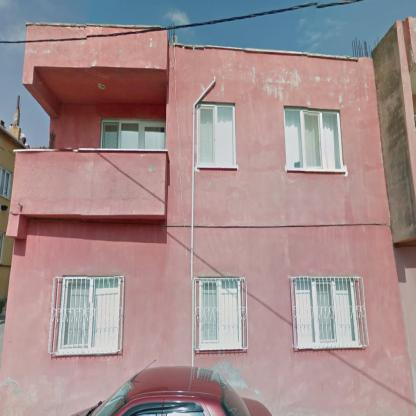window: (58, 277, 119, 352), (296, 279, 360, 347), (285, 109, 343, 170), (200, 278, 241, 347), (198, 105, 235, 167), (101, 121, 165, 149), (1, 166, 11, 198)
